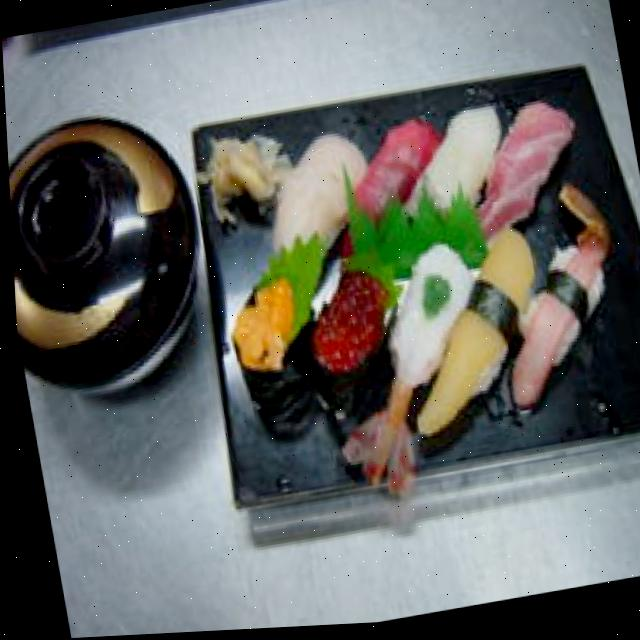寿司卷物: (172, 68, 640, 535)
